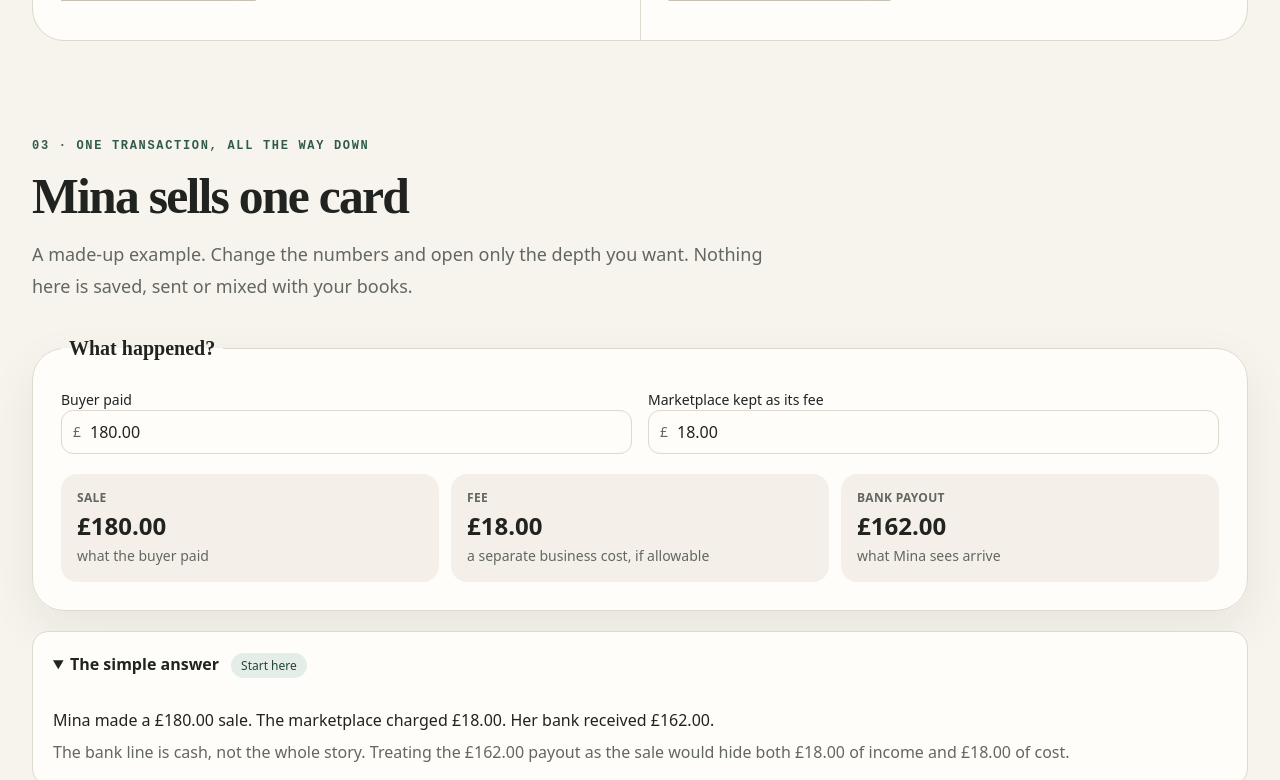
Test case: Books front door › recalculates without floating-point money and stops an impossible fee
(page scrolled)
Replace the text in the field labelled "Buyer paid £" with "200.10" at (346, 432), box [61, 410, 632, 454]
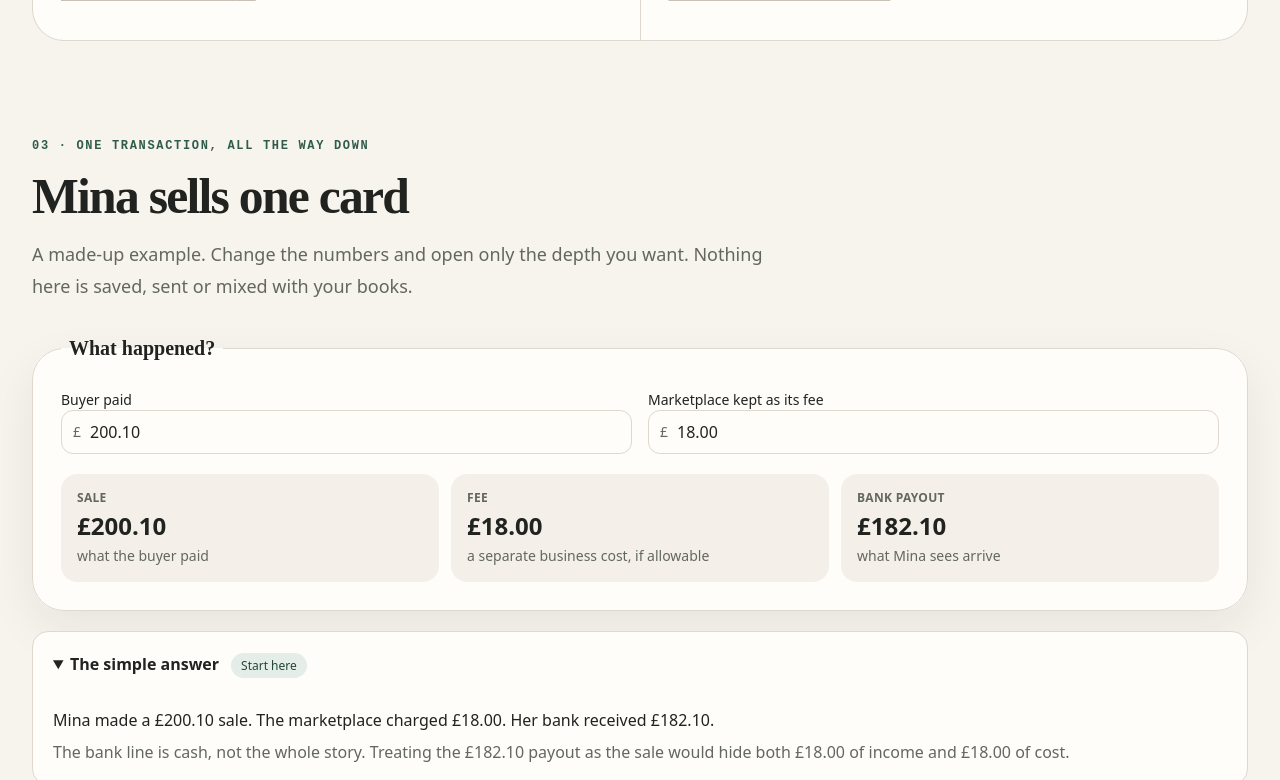
Replace the text in the field labelled "Marketplace kept as its fee £" with "25.05" at (934, 432), box [648, 410, 1219, 454]
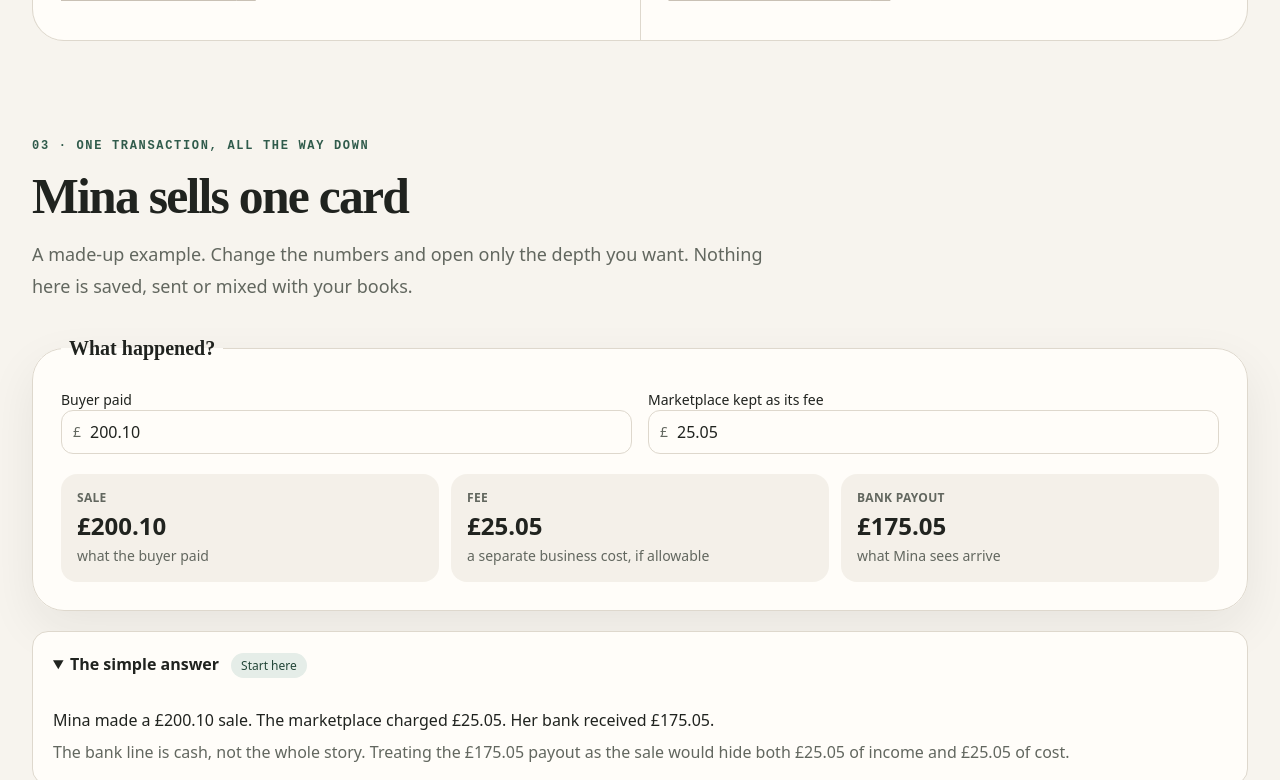
Now the text "£175.05" is shown, box [857, 509, 946, 542]
Replace the text in the field labelled "Marketplace kept as its fee £" with "300" at (934, 432), box [648, 410, 1219, 454]
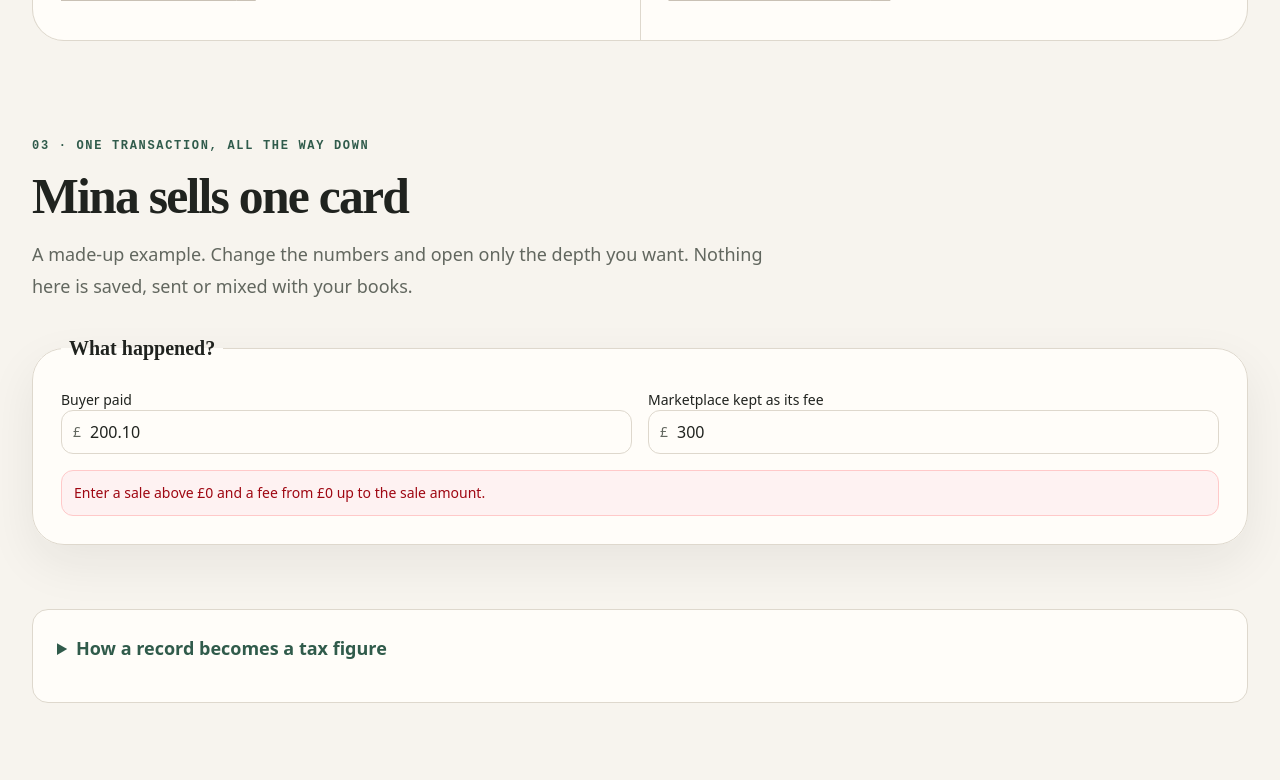
Now the message shows "fee from £0 up to the sale amount", box [74, 483, 485, 502]
Now the text "£175.05" is gone
